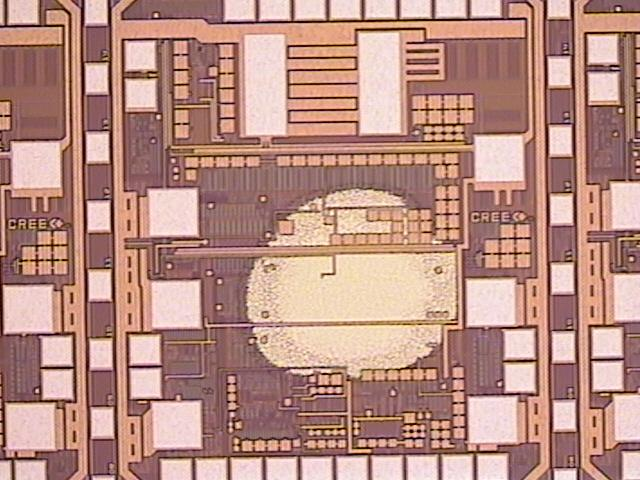BLOCK ETCH: (238, 181, 464, 385)
